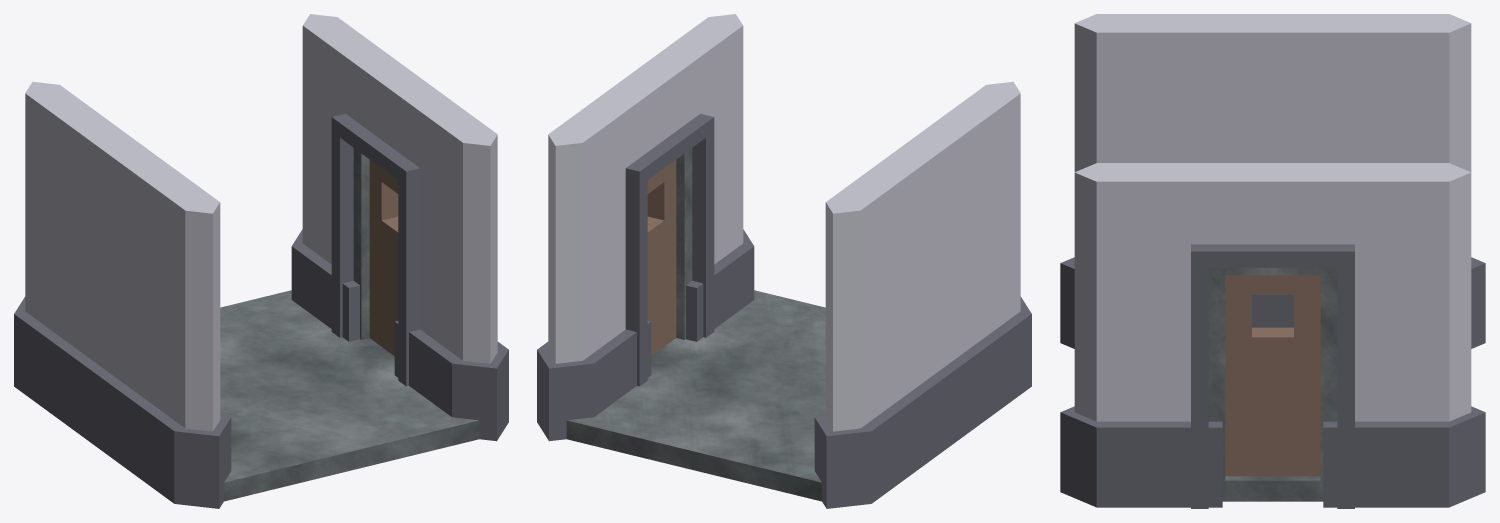
The model's file is sm_hallway_05.fbx.
3 views of the same model, side by side, from view 1: azimuth 30°, elevation 25°; view 2: azimuth 150°, elevation 25°; view 3: azimuth 270°, elevation 25° (orthographic). The views are drawn at different scales.
Parts seen in each view (by area): view 1: wall_01_172, door_02_175, floor_square_169; view 2: wall_01_172, door_02_175, floor_square_169; view 3: door_02_175, wall_01_172, floor_square_169.
Part boxes in pixels (x1,y1,x2,y2): wall_01_172: (14,81,231,508); door_02_175: (291,14,508,441); floor_square_169: (220,290,479,501); wall_01_172: (814,81,1031,508); door_02_175: (537,14,754,441); floor_square_169: (566,290,825,501); door_02_175: (1060,163,1485,508); wall_01_172: (1060,14,1485,348); floor_square_169: (1223,476,1320,501).
Bounding box in the file's own units: 12.15 × 10 × 12.05.
